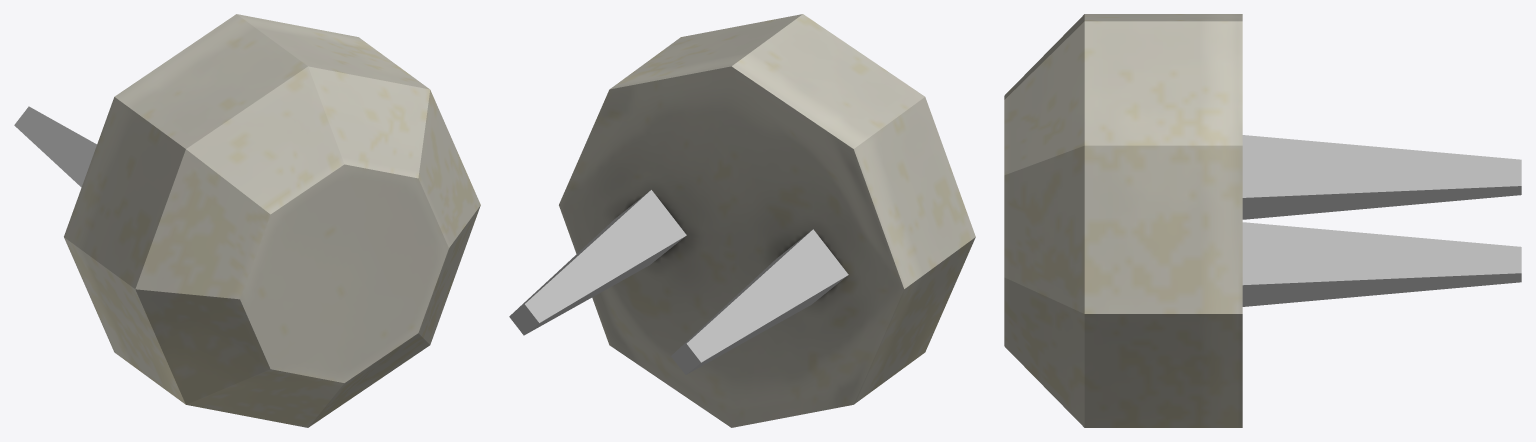
Rendered from plug.glb.
3 renders of one model, left to right at view 1: azimuth 30°, elevation 25°; view 2: azimuth 150°, elevation 25°; view 3: azimuth 270°, elevation 25°, orthographic. The views are drawn at different scales.
Parts seen in each view (by area): view 1: Plug; view 2: Plug; view 3: Plug.
Boxes of the visible parts, x1=… form: Plug: x1=14, y1=14, x2=480, y2=427; Plug: x1=509, y1=14, x2=975, y2=427; Plug: x1=1004, y1=14, x2=1521, y2=427.
Bounding box in the file's own units: 0.1822 × 0.1822 × 0.214.
1 material, 1 textured.
